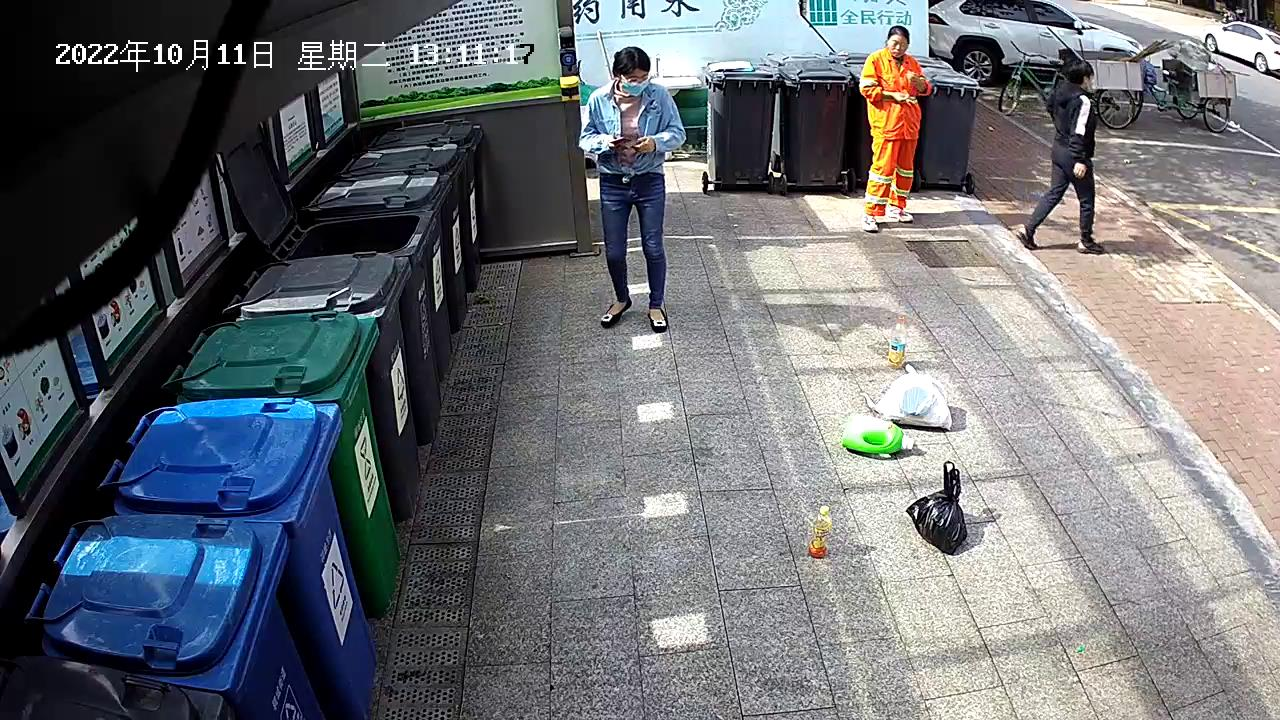garbage-bag: (903, 458, 969, 556), (871, 362, 954, 432)
person: (1008, 56, 1109, 257)
suliaozhipin: (840, 409, 916, 456), (805, 503, 834, 558), (885, 314, 909, 371)
worker: (575, 45, 687, 337), (859, 25, 934, 231)
